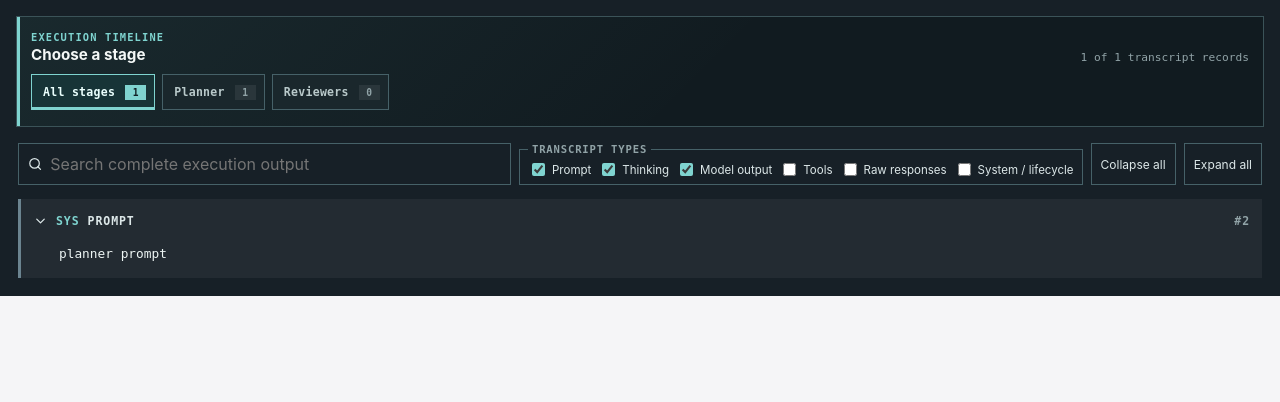
Test: hides global lifecycle entries by default and places their filter last
Expected: the text "Review execution started" is not shown
Click the checkbox labelled "System / lifecycle" at (964, 170), box [958, 163, 971, 176]
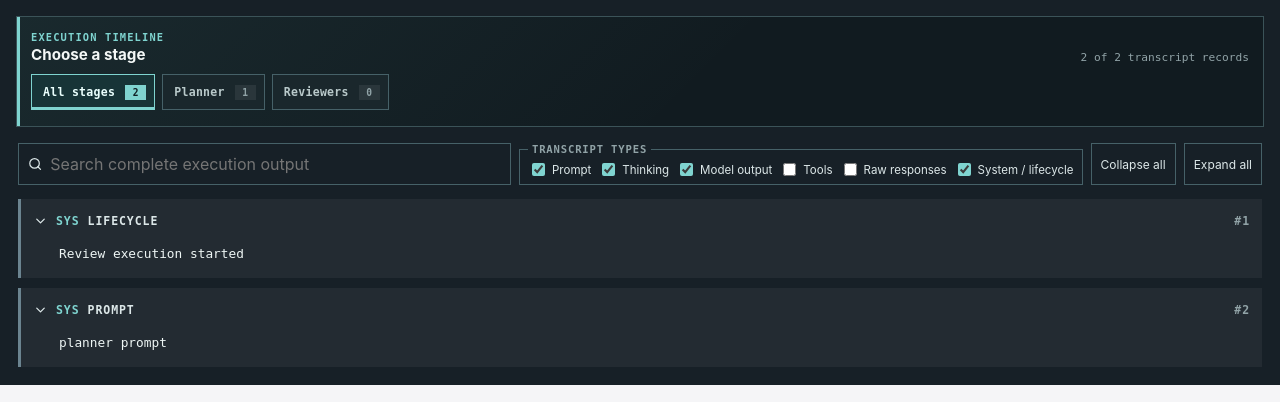
Expected: the text "Review execution started" is shown, [59, 246, 244, 261]
Click the button "Planner 1" at (214, 92), box [162, 74, 265, 110]
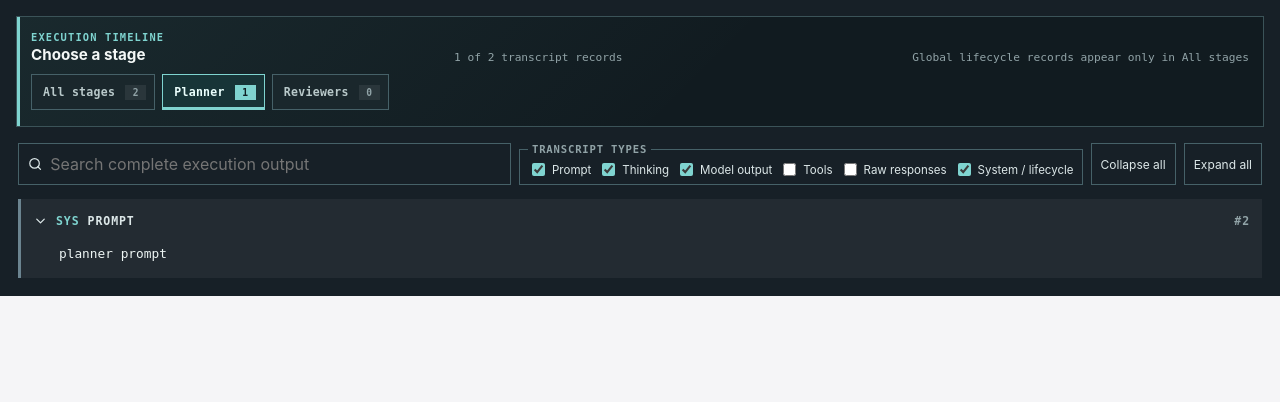
Expected: the text "planner prompt" is shown, [59, 246, 167, 261]
Expected: the text "Review execution started" is gone
